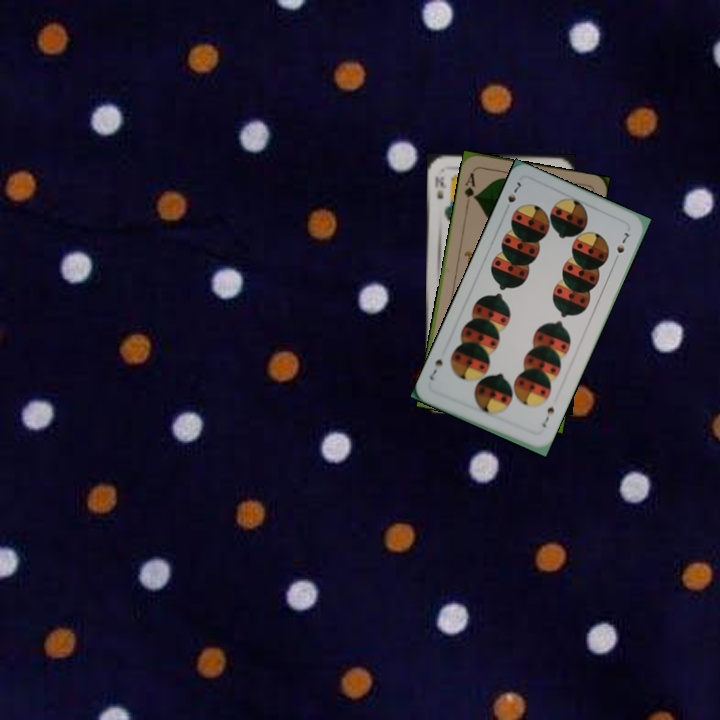EK: (430, 172, 449, 201)
GA: (460, 167, 479, 207)
S7: (503, 177, 524, 205), (538, 403, 557, 430)
